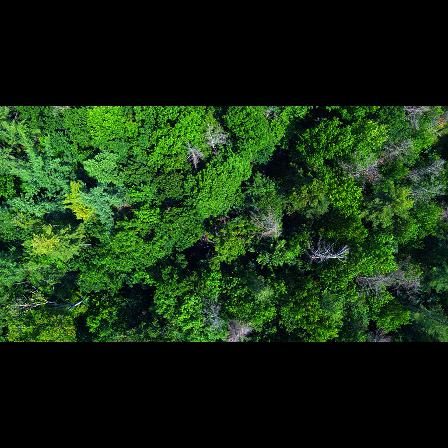Dead: (14, 282, 84, 317), (326, 158, 391, 189), (353, 266, 419, 296), (300, 237, 351, 266), (396, 158, 445, 182), (251, 207, 285, 240), (205, 120, 235, 157), (395, 108, 437, 128), (402, 182, 448, 200), (178, 136, 202, 169), (226, 319, 256, 341), (203, 300, 225, 324)
